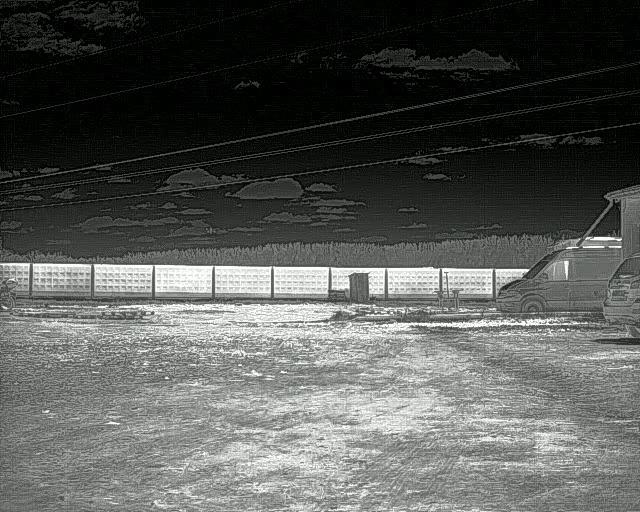drone-thermal: (205, 226, 217, 235)
